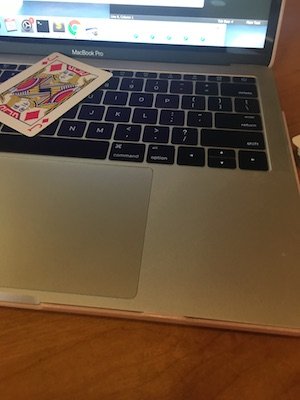JackOfDiamonds: (1, 53, 115, 142)
